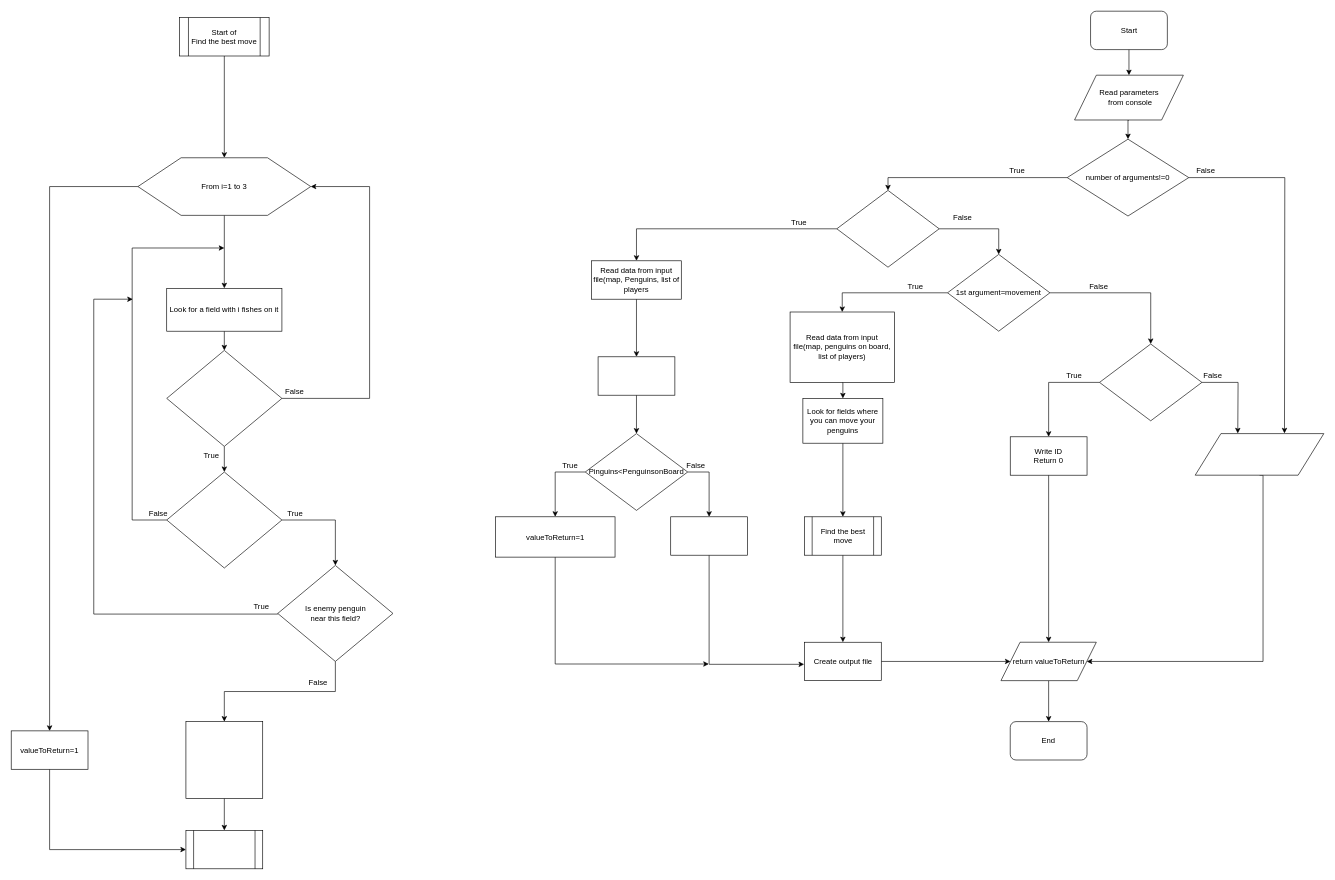
Some shapes in this 1335 by 880 pixel diagram are drawn without their labels. Here are the shapes that lost their labels. From the top down, the centre of each, then its label:
point 887,228: 1st argument=placement
point 636,375: PenguinsOnBoard-number of penguins we have on board
point 1150,382: 1st argument=id
point 224,398: Did you find a field?
point 1259,454: Write"Too few arguments or the wrong one" valueToReturn=3
point 224,519: Is there at least 4 fields to move on from desired field?
point 709,535: Place penguin on the board valueToReturn=0
point 224,759: Move penguin there valueToRetun=0
point 224,849: End of Find the best move
